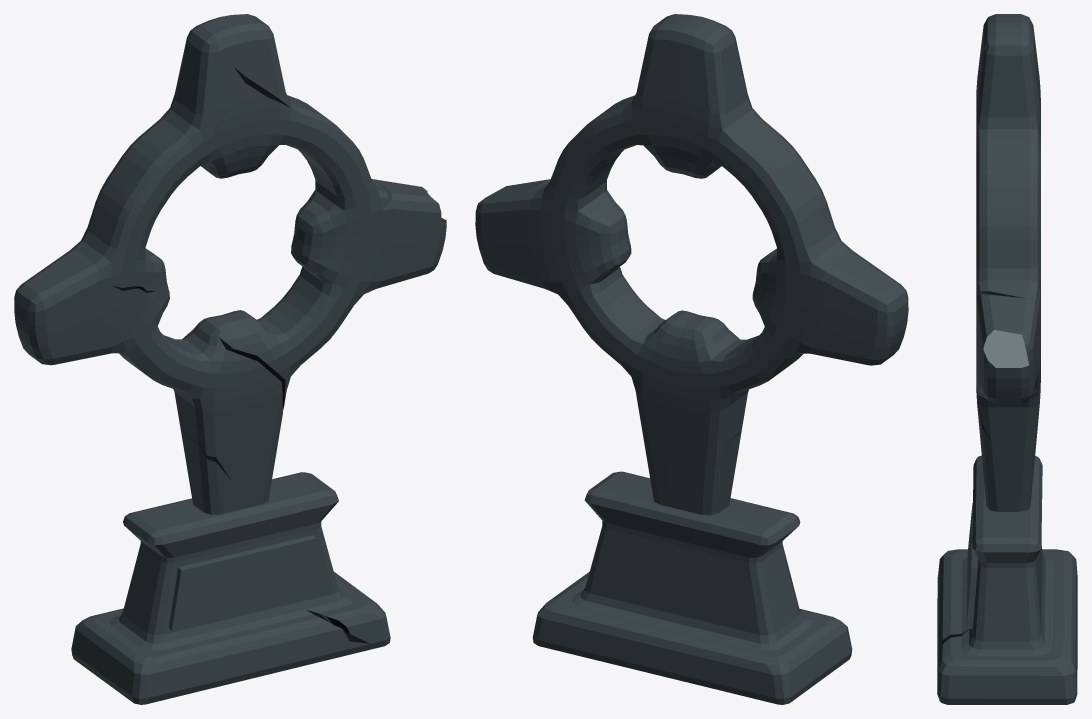
Rendered from KUBURAN 6.fbx.
3 views of the same model, side by side, from view 1: azimuth 30°, elevation 25°; view 2: azimuth 150°, elevation 25°; view 3: azimuth 270°, elevation 25° (orthographic).
Visible parts, largest first — view 1: Circle.003; view 2: Circle.003; view 3: Circle.003.
Boxes of the visible parts, bbox=[...] form: Circle.003: bbox=[14, 14, 446, 704]; Circle.003: bbox=[475, 14, 908, 704]; Circle.003: bbox=[937, 14, 1077, 704].
Bounding box in the file's own units: 304 × 440 × 89.75.
